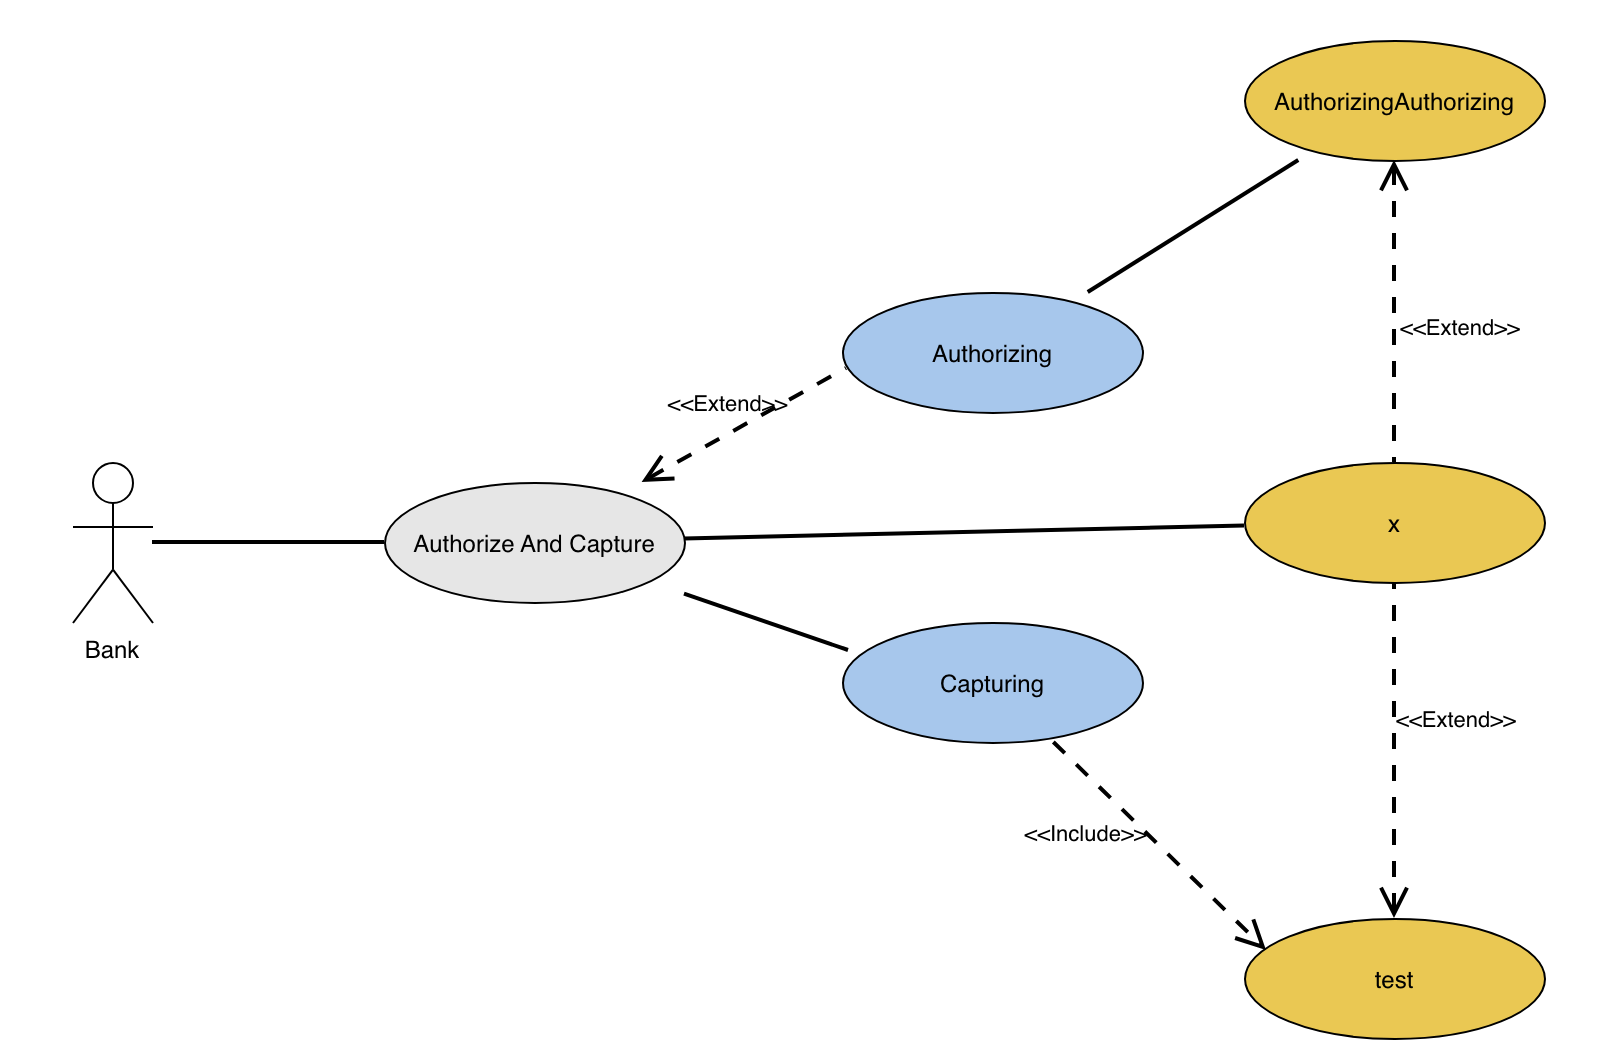actor: (68, 455, 158, 633)
association: (1053, 738, 1267, 951), (1084, 154, 1300, 294), (643, 370, 836, 487), (684, 512, 1248, 543), (682, 586, 855, 661), (1378, 586, 1412, 917), (1379, 159, 1411, 462), (155, 520, 379, 555)
text: (404, 527, 662, 559), (1271, 87, 1518, 119), (919, 332, 1064, 372), (924, 659, 1060, 702), (1395, 702, 1519, 744), (1398, 313, 1525, 343), (1017, 821, 1150, 843), (669, 392, 793, 415), (78, 633, 153, 668), (1355, 964, 1435, 992), (1374, 495, 1415, 549)
use_case: (839, 289, 1147, 417), (382, 479, 688, 607), (1243, 37, 1550, 164), (1245, 915, 1549, 1042), (1240, 460, 1549, 584), (841, 619, 1145, 744)
